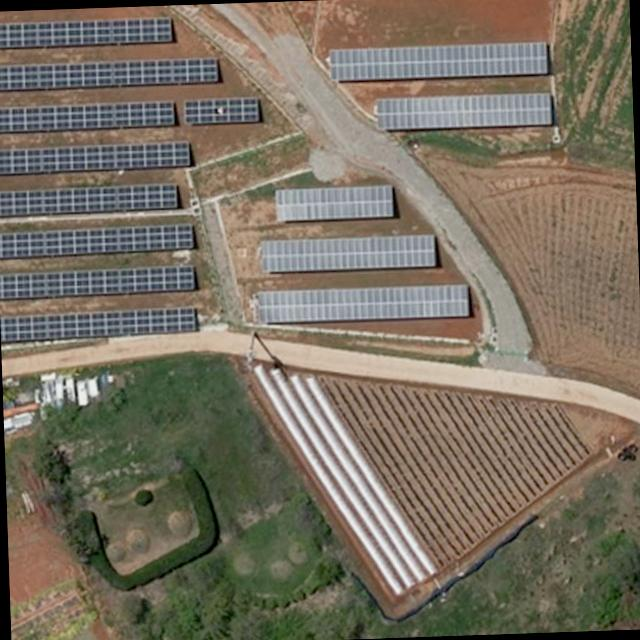solar: (326, 37, 550, 84), (252, 282, 473, 328), (257, 230, 440, 276), (0, 57, 222, 93), (0, 140, 193, 178), (376, 93, 558, 133), (0, 306, 200, 341), (0, 263, 197, 298), (0, 226, 195, 260), (0, 13, 172, 51), (0, 98, 179, 132), (0, 183, 179, 217), (276, 182, 400, 225), (183, 97, 263, 129)
